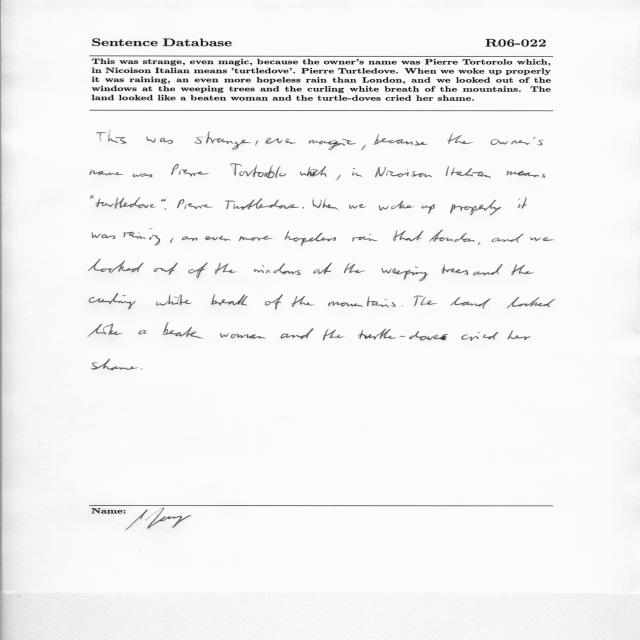word: (358, 329, 448, 341), (194, 132, 251, 150), (225, 198, 300, 210), (328, 296, 396, 308), (230, 164, 286, 178), (89, 259, 144, 273), (450, 200, 501, 215), (285, 231, 336, 246), (89, 294, 135, 310), (95, 197, 156, 209), (381, 267, 428, 282), (373, 134, 428, 146), (162, 323, 203, 339), (123, 229, 160, 246), (446, 166, 491, 179), (375, 167, 432, 177), (254, 263, 301, 275), (429, 230, 475, 242), (507, 297, 555, 308), (309, 139, 356, 150), (92, 359, 138, 370), (171, 164, 209, 177), (450, 297, 491, 309), (88, 323, 122, 337), (211, 294, 248, 306), (491, 137, 544, 145), (156, 294, 191, 306), (97, 130, 126, 144), (281, 328, 314, 339), (177, 199, 212, 209), (379, 201, 413, 211), (462, 332, 499, 341), (473, 264, 503, 275), (312, 198, 339, 210), (188, 262, 208, 278), (154, 262, 178, 275), (393, 231, 424, 241), (300, 166, 327, 177), (491, 234, 524, 243), (265, 294, 283, 310), (220, 333, 266, 339), (507, 171, 546, 178), (414, 296, 438, 307), (448, 134, 474, 144), (442, 265, 468, 275), (215, 263, 237, 274), (512, 265, 534, 276), (292, 296, 314, 307), (323, 329, 344, 340), (508, 330, 531, 340), (146, 136, 173, 144), (344, 263, 365, 273), (313, 263, 332, 274), (90, 170, 123, 176), (265, 138, 296, 144), (352, 234, 378, 241), (239, 236, 273, 241), (92, 232, 115, 239), (205, 235, 231, 241), (421, 204, 435, 214), (518, 197, 527, 209), (133, 173, 153, 178), (530, 237, 554, 241), (352, 168, 362, 177), (349, 204, 366, 209), (182, 236, 197, 241), (138, 330, 147, 334), (361, 145, 366, 150), (336, 175, 341, 180), (255, 140, 258, 145), (161, 199, 166, 202), (90, 196, 94, 199), (170, 239, 173, 243), (478, 242, 481, 245), (165, 208, 167, 210), (302, 207, 304, 209), (141, 369, 143, 370), (402, 306, 403, 307)
